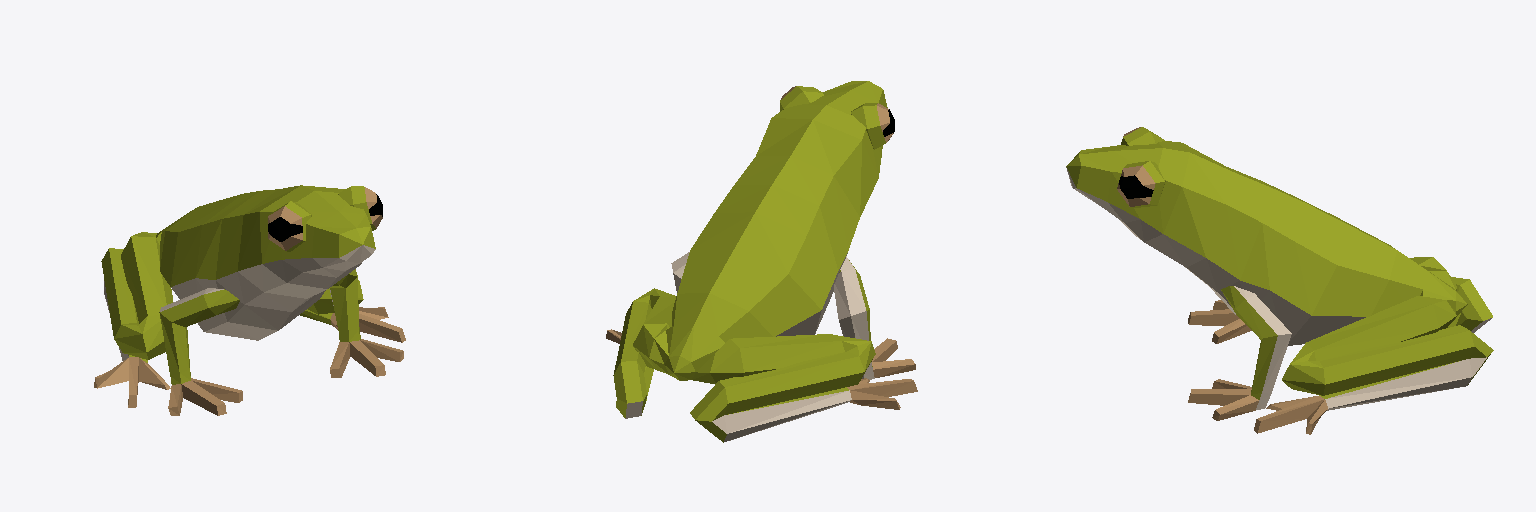
3 views of the same model, side by side, from view 1: azimuth 30°, elevation 25°; view 2: azimuth 150°, elevation 25°; view 3: azimuth 270°, elevation 25° (orthographic).
Visible parts, largest first — view 1: Geo_Frog; view 2: Geo_Frog; view 3: Geo_Frog.
Part boxes in pixels (x1,y1,x2,y2): Geo_Frog: (94,185,405,415); Geo_Frog: (606,81,917,442); Geo_Frog: (1066,127,1493,434).
Bounding box in the file's own units: 45.75 × 32.68 × 57.58.
Materials: 1 (1 with a texture image).